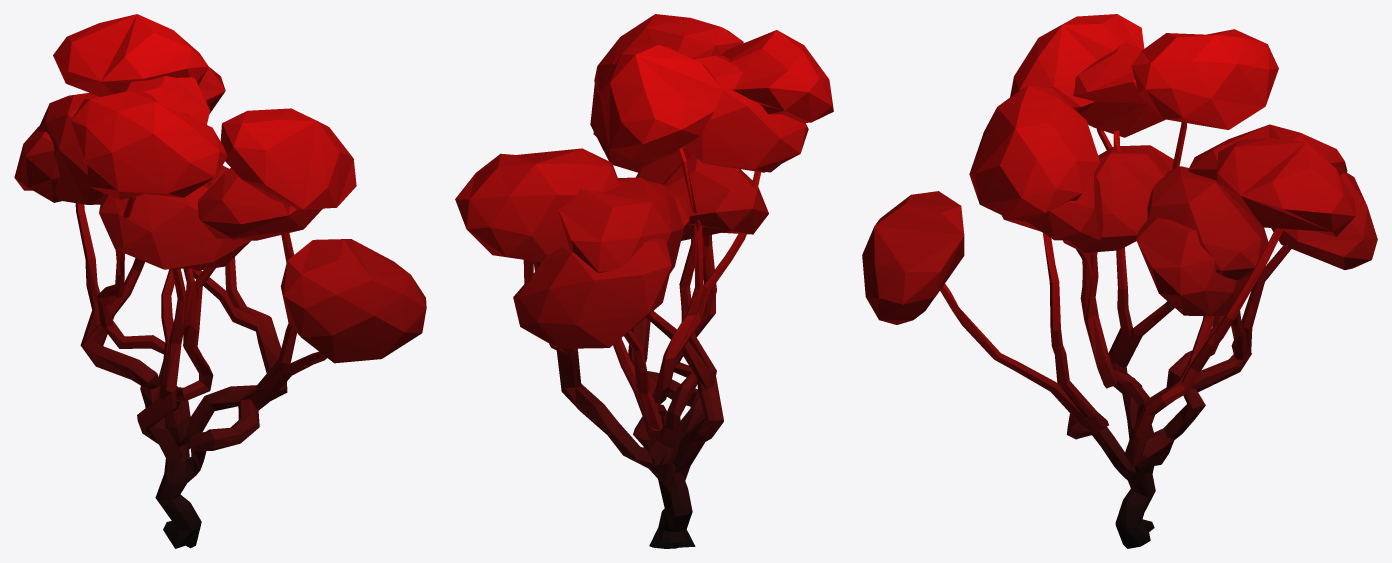
Rendered from TreeHiatus02.fbx.
3 renders of one model, left to right at view 1: azimuth 30°, elevation 25°; view 2: azimuth 150°, elevation 25°; view 3: azimuth 270°, elevation 25°, orthographic. The views are drawn at different scales.
Visible parts, largest first — view 1: TreeHiatus02_LOD0; view 2: TreeHiatus02_LOD0; view 3: TreeHiatus02_LOD0.
Part boxes in pixels (bbox=[...]): TreeHiatus02_LOD0: bbox=[14, 14, 426, 548]; TreeHiatus02_LOD0: bbox=[455, 14, 833, 548]; TreeHiatus02_LOD0: bbox=[862, 14, 1377, 548].
Size of what is drawn, in the model's own units: 903 by 1715 by 1582.
